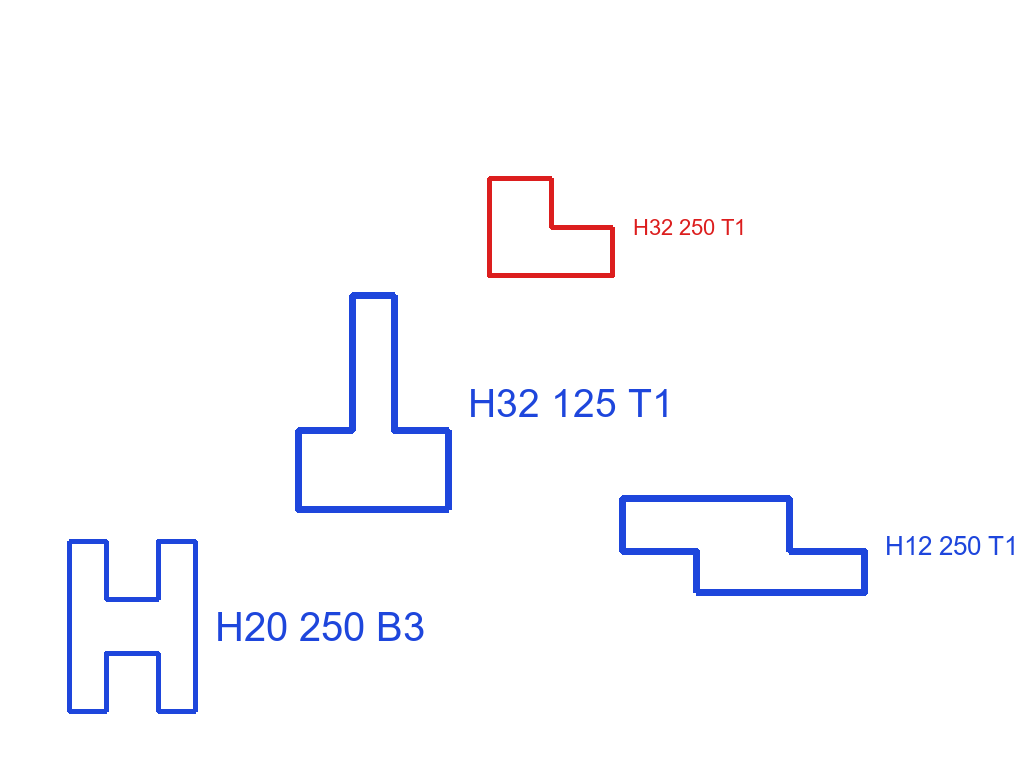shape: (293, 290, 454, 515), (617, 493, 870, 598), (65, 537, 200, 716), (485, 174, 617, 280)
text: (213, 610, 427, 643), (466, 387, 676, 419), (883, 534, 1020, 557), (631, 217, 748, 237)
